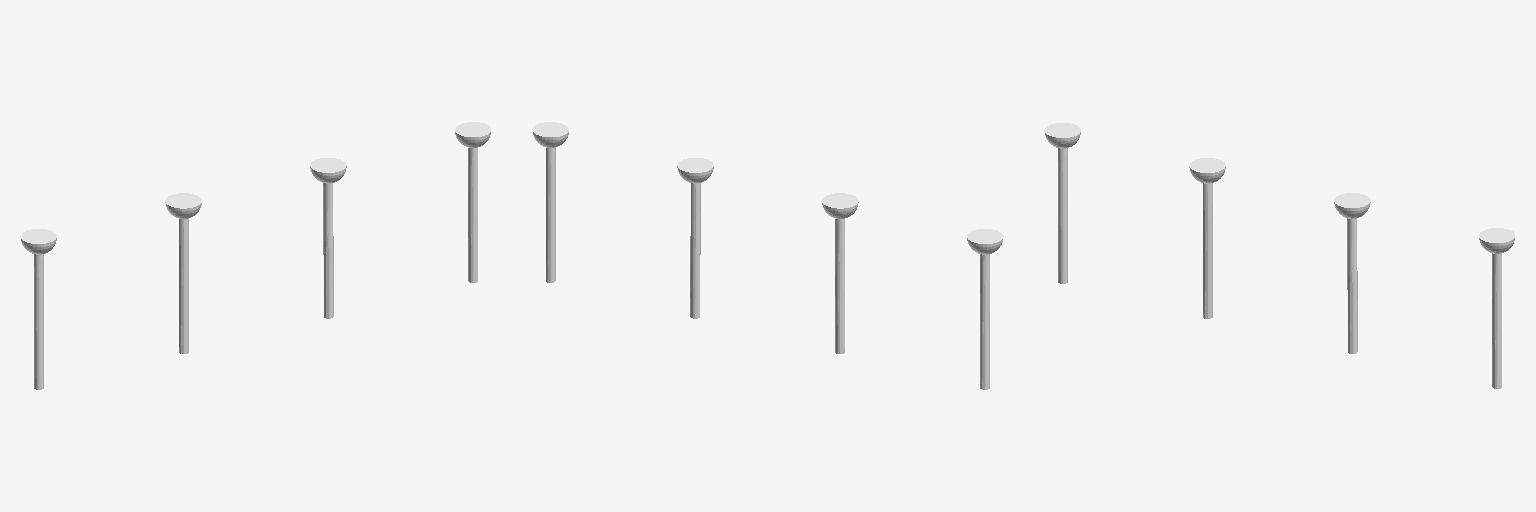
robot.urdf — poles:
<?xml version="1.0" encoding="utf-8"?>
<!-- This URDF was automatically created by SolidWorks to URDF Exporter! Originally created by Stephen Brawner ([email redacted]) 
     Commit Version: 1.6.0-4-g7f85cfe  Build Version: 1.6.7995.38578
     For more information, please see http://wiki.ros.org/sw_urdf_exporter -->
<robot
  name="poles">
  <link
    name="base_link">
    <inertial>
      <origin
        xyz="0 0 0"
        rpy="0 0 0" />
      <mass
        value="21.2396510226982" />
      <inertia
        ixx="2.09869967933224"
        ixy="-7.12427931720349E-31"
        ixz="5.59930255919331E-17"
        iyy="2.09869967933224"
        iyz="1.45251010679581E-14"
        izz="0.0585123360862047" />
    </inertial>
    <visual>
      <origin
        xyz="0 0 0"
        rpy="0 3.14 0" />
      <geometry>
        <mesh
          filename="./meshes/base_link.STL" />
      </geometry>
      <material
        name="">
        <color
          rgba="1 1 1 1" />
      </material>
    </visual>
    <collision>
      <origin
        xyz="0 0 0"
        rpy="1.57 3.14 0" />
      <geometry>
        <mesh
          filename="./meshes/base_link.STL" />
      </geometry>
    </collision>
  </link>
</robot>

--- Facts derived from the render (not from the file) ---
Views: 3 orthographic renders of the robot side by side, from view 1: azimuth 30°, elevation 25°; view 2: azimuth 150°, elevation 25°; view 3: azimuth 330°, elevation 25°.
Robot: poles — 1 links, 0 joints (none); root link base_link; default pose: every joint at zero.
Visible links, largest first — view 1: base_link; view 2: base_link; view 3: base_link.
Boxes of the visible links, bbox=[...] form: base_link: bbox=[20, 122, 490, 389]; base_link: bbox=[533, 122, 1003, 389]; base_link: bbox=[1044, 123, 1514, 388].
Size in the robot's own frame: 3.22 by 0.22 by 1 metres.
Meshes: 1 distinct files referenced, 1 mesh visuals loaded (1 binary STL).
